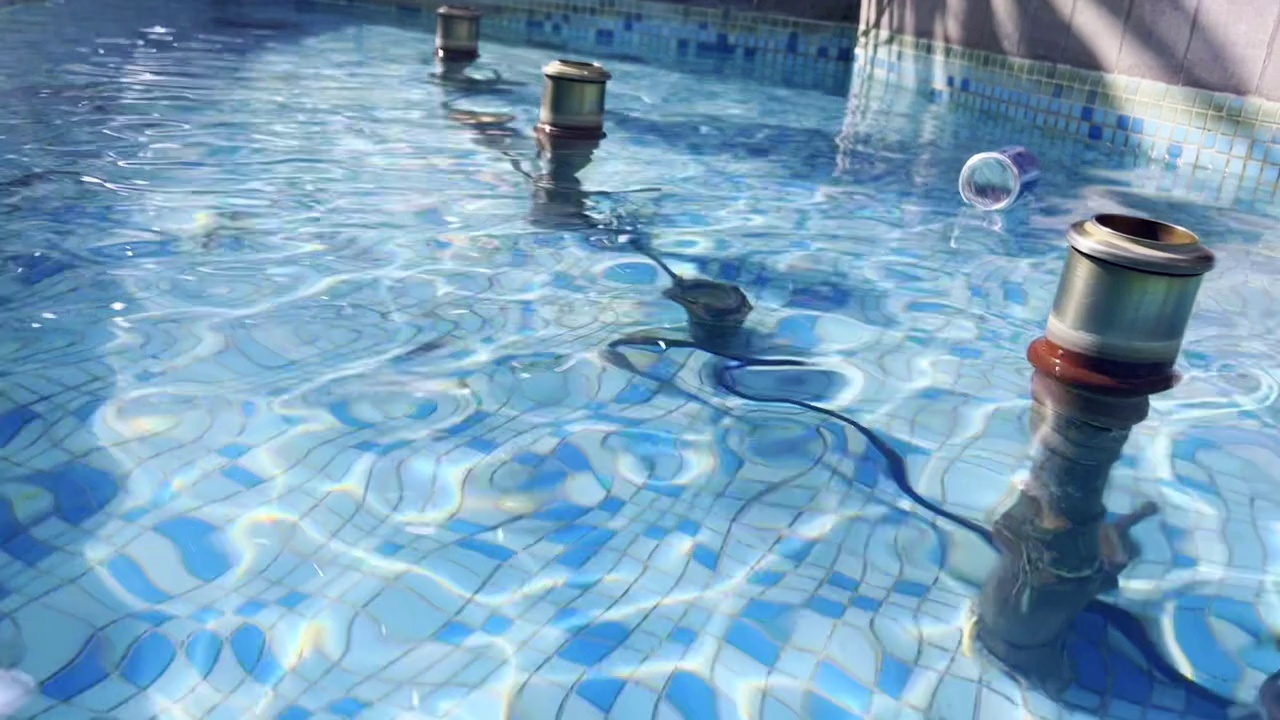debris: (952, 131, 1047, 219)
